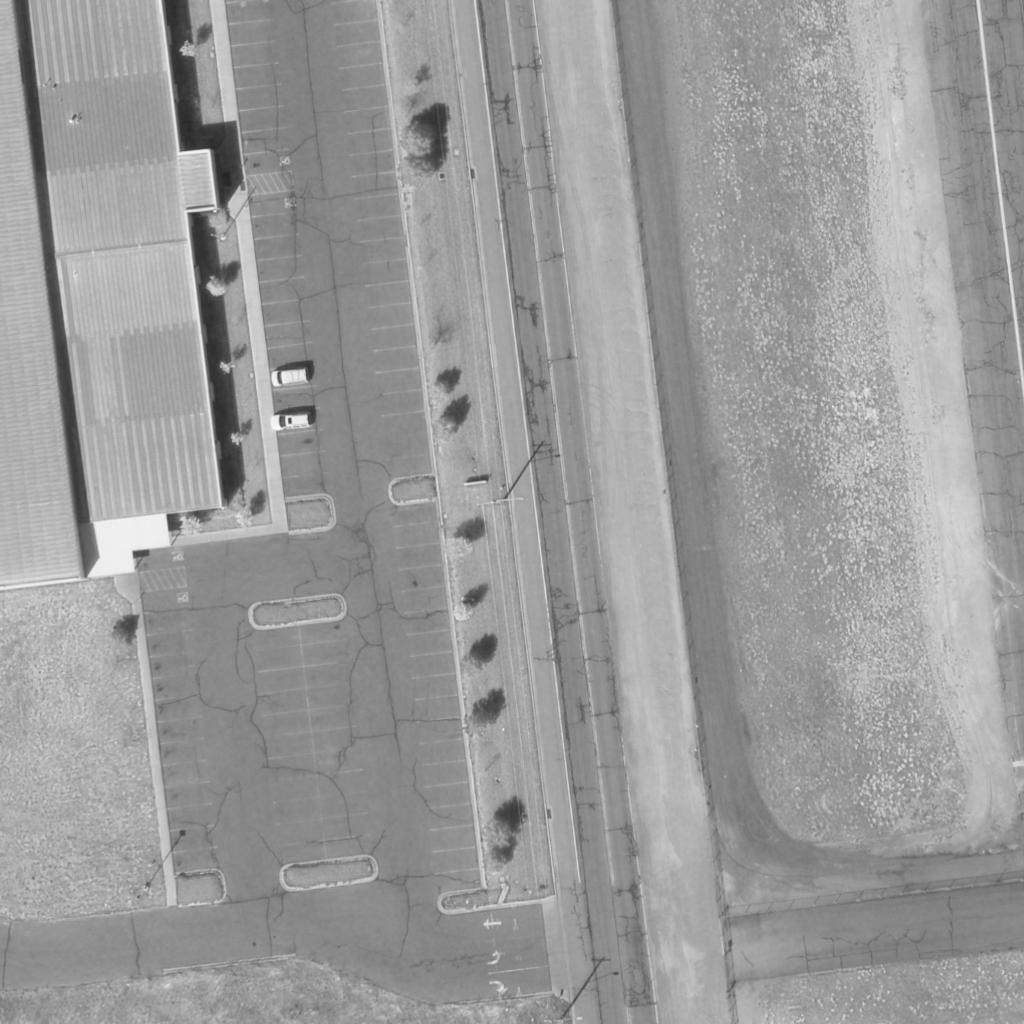vehicle: (268, 368, 312, 386), (270, 413, 314, 431)
